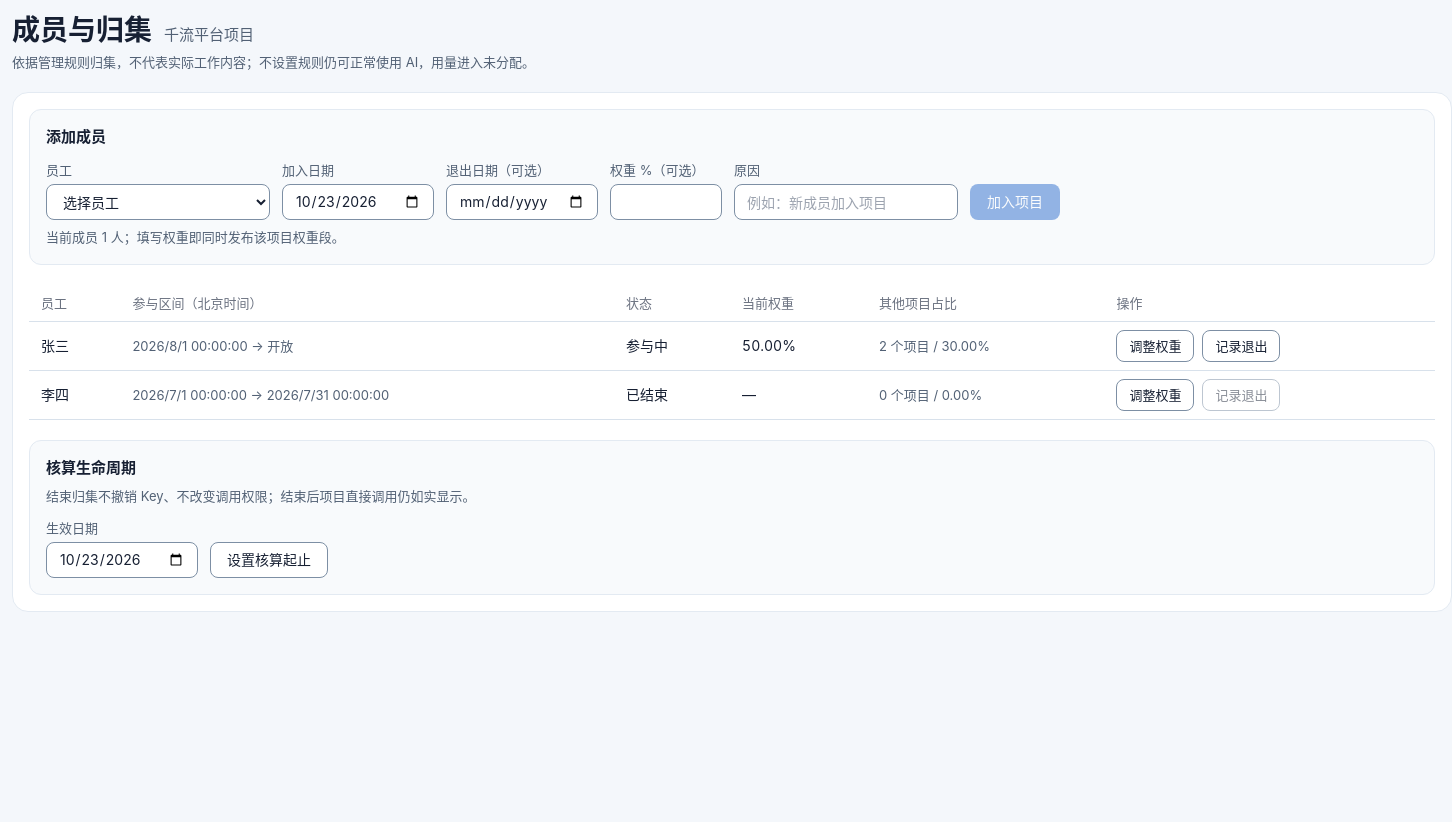
Test case: 项目成员与归集页面 › 无核算配置时 expectedVersion 回落为 0，提示开始核算
The image size is (1452, 822).
Click the button "设置核算起止" at (269, 560), box [210,542,328,578]
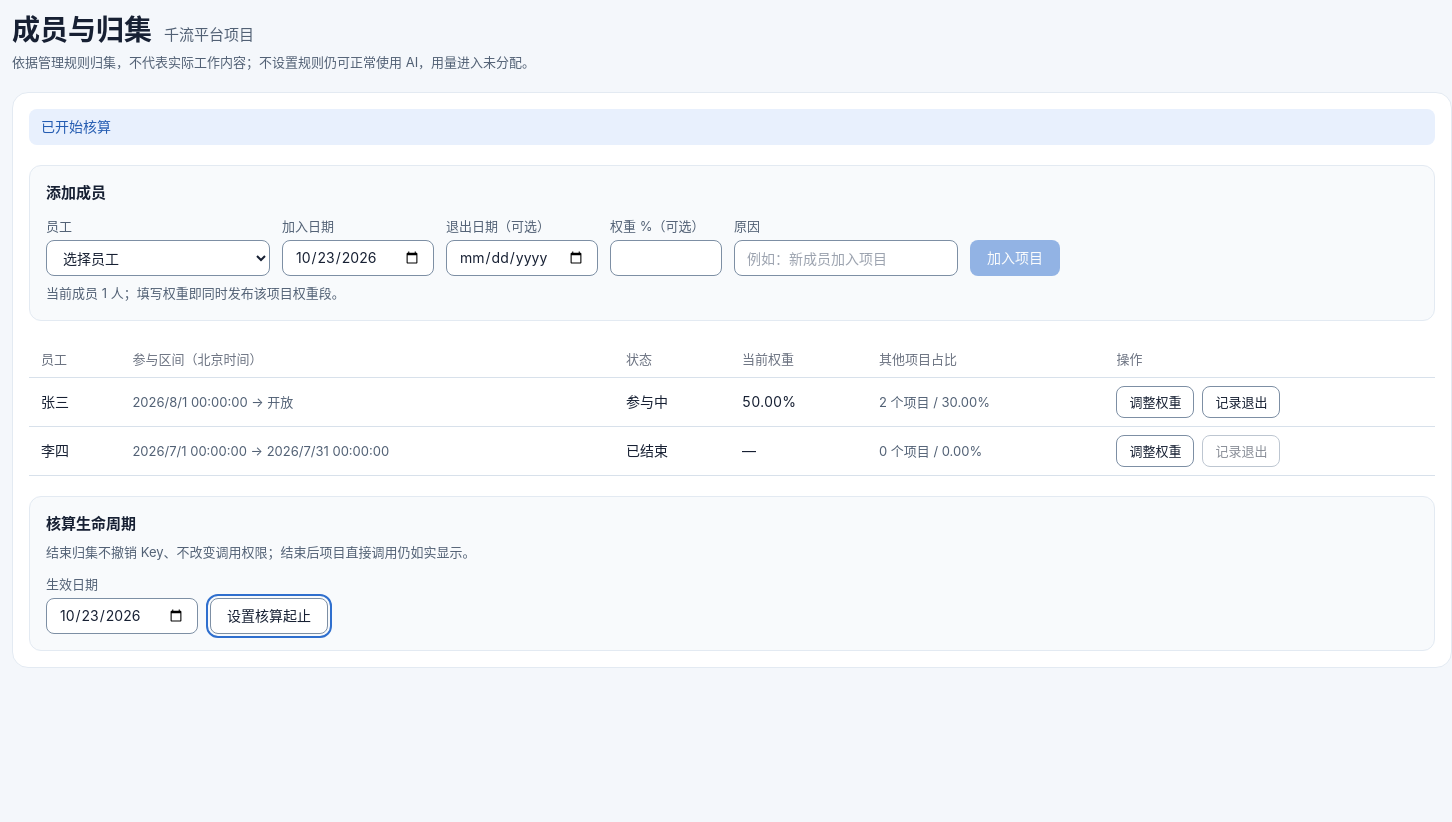
Check: the text "已开始核算" is shown, box [29,109,1435,145]
